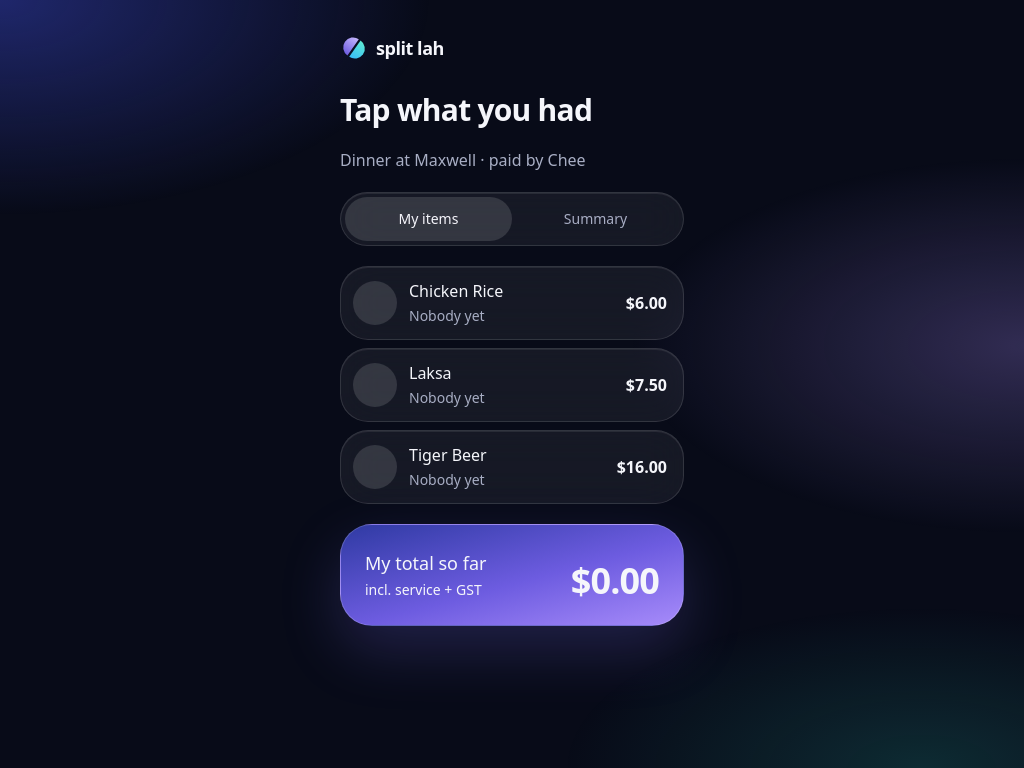
Test case: Tapping what you had › tapping claims an item with the guest token, tapping again takes it back
Click the button "Chicken Rice Nobody yet $6.00".
click(375, 303)  # box [340,266,684,340]
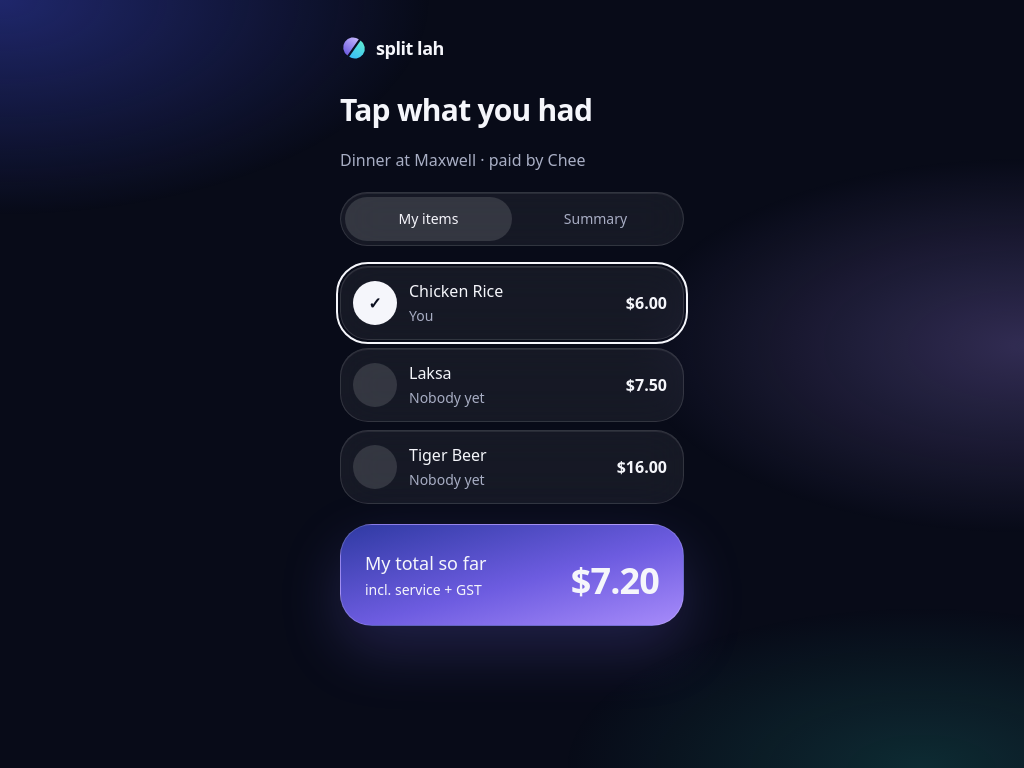
Check: the text "$7.20" is shown, box [571,561,659,601]
Click the button "✓ Chicken Rice You $6.00".
click(375, 303)  # box [340,266,684,340]
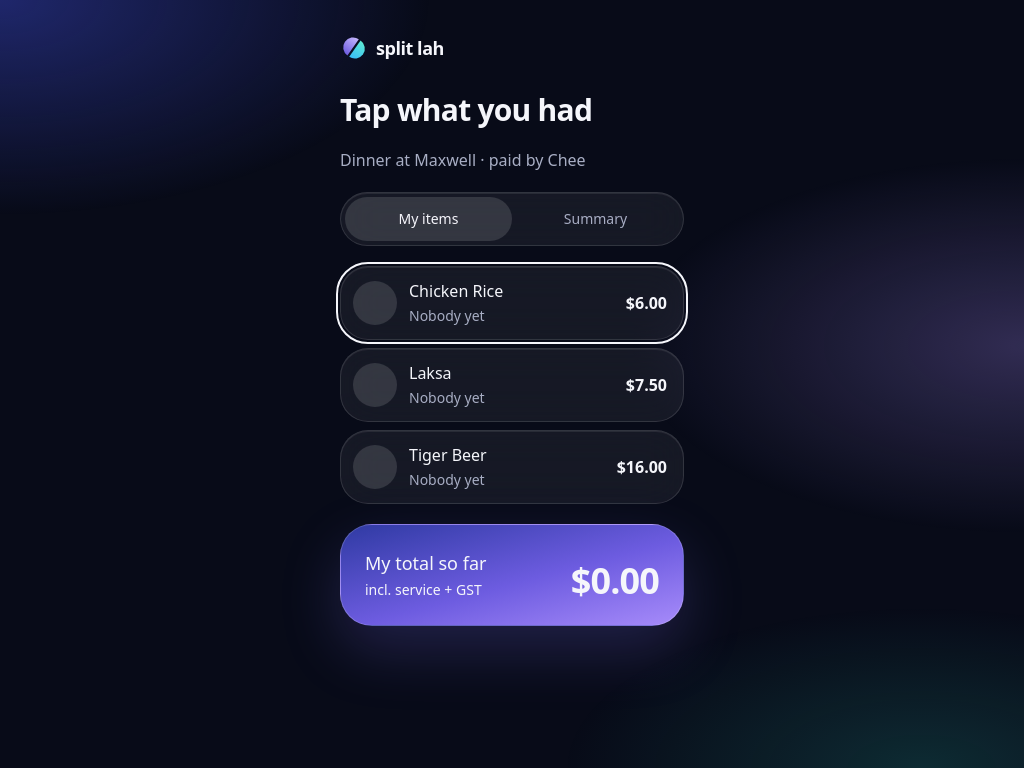
Check: the button "Chicken Rice Nobody yet $6.00" is not pressed, box [340,266,684,340]
